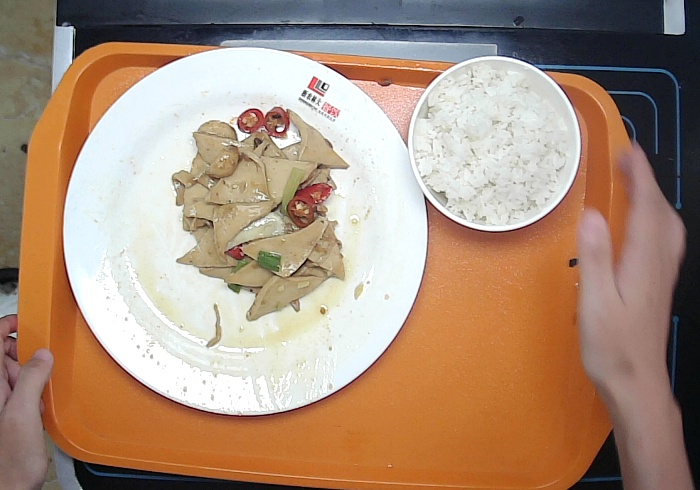ZNLD-Da_Yuan_Pan: (61, 43, 431, 417)
ZNLD-Fan_Wan: (405, 52, 584, 234)
